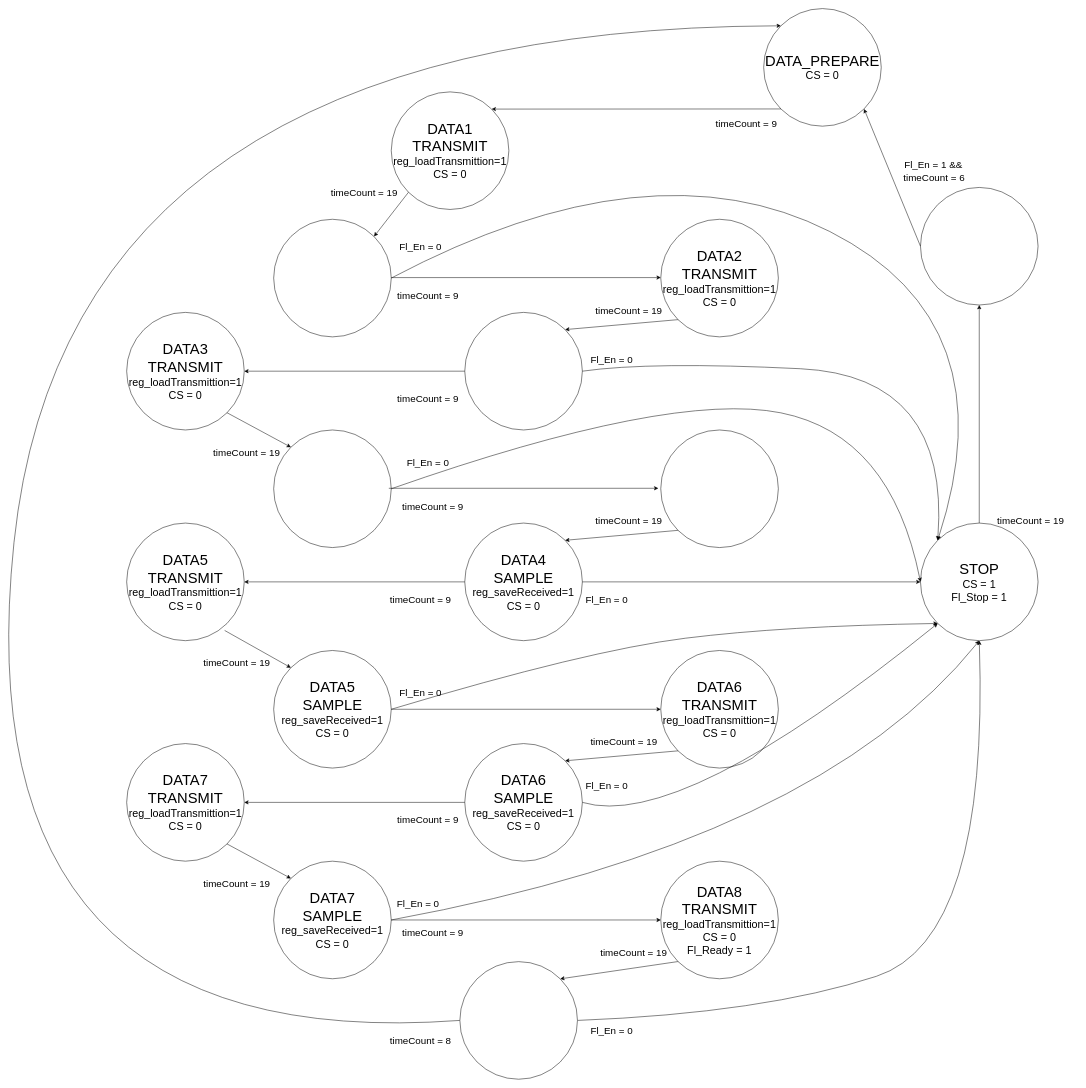
Some shapes in this 1086 by 1088 pixel diagram are drawn without their labels. The shapes that lost their labels are listed below. From the top down, each one's centre as x and y in pixels, then its label:
the point at 979,246: IDLE CS = 1
the point at 332,278: DATA1 SAMPLE reg_saveReceived=1 CS = 0
the point at 523,371: DATA2 SAMPLE reg_saveReceived=1 CS = 0
the point at 332,488: DATA3 SAMPLE reg_saveReceived=1 CS = 0
the point at 719,488: DATA4 TRANSMIT reg_loadTransmittion=1 CS = 0
the point at 518,1020: DATA8 SAMPLE reg_saveReceived=1 CS = 0 Fl_End = 1
